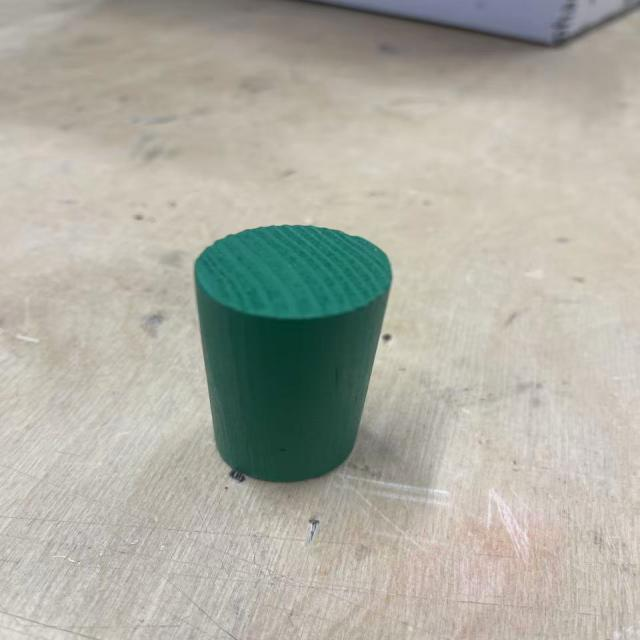green_cylinder: (192, 223, 393, 485)
